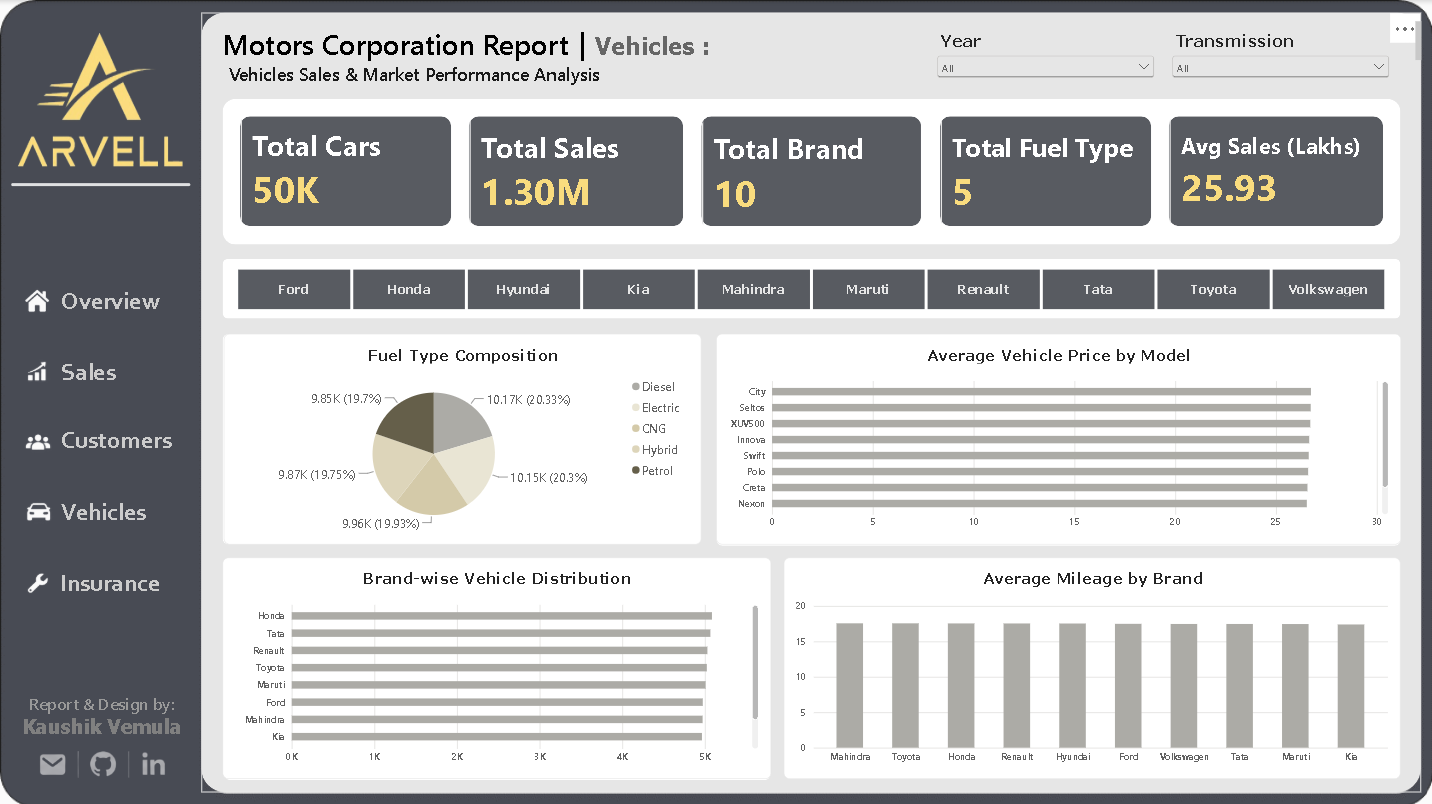

The page's visual inventory and layout, read from the dashboard file:
{"tool":"powerbi","page":{"name":"Vehicles","canvas":[1920,1080],"ordinal":3},"visuals":[{"type":"shape","box":[269.9,17.5,1634,1044.6],"z":0},{"type":"shape","box":[297.6,132.8,1578.6,195.5],"z":1000},{"type":"shape","box":[321,156.1,283,147.4],"z":2000},{"type":"shape","box":[1565.5,156.1,287.4,147.4],"z":3000},{"type":"shape","box":[1259.1,156.1,283,147.4],"z":4000},{"type":"shape","box":[939.6,156.1,294.7,147.4],"z":5000},{"type":"shape","box":[627.4,156.1,287.4,147.4],"z":6000},{"type":"textbox","box":[298,28,1606,54],"z":12000},{"type":"textbox","box":[307.1,81.4,847.1,52.9],"z":13000},{"type":"image","box":[15,26.7,240,215],"z":14000},{"type":"shape","box":[15.7,191.4,240,112.9],"z":15000},{"type":"textbox","box":[16,928,240,66],"z":16000},{"type":"image","box":[16,994,240,62],"z":17000},{"type":"actionButton","box":[38.4,1004.7,66.3,40.1],"z":18000},{"type":"actionButton","box":[170.9,1004.7,66.3,40.1],"z":19000},{"type":"actionButton","box":[104.7,1004.7,66.3,40.1],"z":20000},{"type":"cardVisual","fields":{"Data":["Count(Master_Car_Data.Car_ID)"]},"box":[320.8,155.4,286.9,145.4],"z":21000},{"type":"cardVisual","fields":{"Data":["Sum(Master_Car_Data.Sale_Price_Lakh)"]},"box":[627.7,156.9,276.9,146.2],"z":22000},{"type":"cardVisual","fields":{"Data":["Count(Master_Car_Data.Brand)"]},"box":[939.2,158.5,294.6,146.2],"z":23000},{"type":"cardVisual","fields":{"Data":["Avg(Master_Car_Data.Sale_Price_Lakh)"]},"box":[1565.4,155.4,292.3,147.7],"z":24000},{"type":"cardVisual","fields":{"Data":["Count(Master_Car_Data.Fuel_Type)"]},"box":[1259.2,156.9,283.8,146.2],"z":25000},{"type":"textbox","box":[81.4,384.3,154.3,44.3],"z":26000},{"type":"textbox","box":[81.4,479.3,155,50],"z":27000},{"type":"textbox","box":[81.4,666.4,157.1,52.1],"z":28000},{"type":"textbox","box":[80.2,762.2,141.3,45.3],"z":29000},{"type":"textbox","box":[81.4,570,175,41.4],"z":30000},{"type":"image","box":[28.5,384.6,43.1,36.9],"z":31000},{"type":"image","box":[30.9,479.1,38.2,37.3],"z":32000},{"type":"image","box":[31,572,38,38],"z":33000},{"type":"image","box":[31.2,666.2,40,37.5],"z":34000},{"type":"image","box":[31.2,762.5,37.5,37.5],"z":35000},{"type":"actionButton","box":[30,473.3,141.7,48.3],"z":36000},{"type":"actionButton","box":[28,568,208,48],"z":37000},{"type":"actionButton","box":[28.6,661.4,175.7,48.6],"z":38000},{"type":"actionButton","box":[31.4,758.6,207.1,48.6],"z":39000},{"type":"actionButton","box":[25.7,378.6,195.7,48.6],"z":40000},{"type":"shape","box":[298.3,347.1,1578.5,80.2],"z":41000},{"type":"advancedSlicerVisual","fields":{"Values":["Master_Car_Data.Brand"]},"box":[298.3,360,1578.3,55],"z":41001},{"type":"slicer","fields":{"Values":["Master_Car_Data.Year"]},"box":[1252,42,300,66],"z":41002},{"type":"slicer","fields":{"Values":["Master_Car_Data.Transmission"]},"box":[1566,42,300,66],"z":41003},{"type":"shape","box":[298.3,446.5,641.9,282.6],"z":41004},{"type":"shape","box":[959.3,446.5,917.4,284.3],"z":41005},{"type":"shape","box":[300,746.7,733.3,298.3],"z":41006},{"type":"shape","box":[1050,746.7,826.7,296.7],"z":41007},{"type":"pieChart","title":"Fuel Type Composition","fields":{"Category":["Master_Car_Data.Fuel_Type"],"Y":["Count(Master_Car_Data.Car_ID)"]},"box":[300,446.5,640.1,282.6],"z":41008},{"type":"barChart","title":"Average Vehicle Price by Model","fields":{"Category":["Master_Car_Data.Model"],"Y":["Avg(Master_Car_Data.Price_Lakh)"]},"box":[959.3,446.5,917.4,282.6],"z":41009},{"type":"barChart","title":"Brand-wise Vehicle Distribution","fields":{"Category":["Master_Car_Data.Brand"],"Y":["Count(Master_Car_Data.Car_ID)"]},"box":[298.3,746.7,735,296.7],"z":41010},{"type":"columnChart","title":"Average Mileage by Brand","fields":{"Category":["Master_Car_Data.Brand"],"Y":["Avg(Master_Car_Data.Mileage_kmpl)"]},"box":[1050,746.7,826.7,296.7],"z":41011}]}

Visuals, with their boxes in screenshot pixels (x1, y1, x2, y2), scaled from the page's 1920x1080 canvas onto the 1432x804 screenshot:
shape: BBox(201, 13, 1420, 791)
shape: BBox(222, 99, 1399, 244)
shape: BBox(239, 116, 450, 226)
shape: BBox(1168, 116, 1382, 226)
shape: BBox(939, 116, 1150, 226)
shape: BBox(701, 116, 921, 226)
shape: BBox(468, 116, 682, 226)
textbox: BBox(222, 21, 1420, 61)
textbox: BBox(229, 61, 861, 100)
image: BBox(11, 20, 190, 180)
shape: BBox(12, 142, 191, 227)
textbox: BBox(12, 691, 191, 740)
image: BBox(12, 740, 191, 786)
actionButton: BBox(29, 748, 78, 778)
actionButton: BBox(127, 748, 177, 778)
actionButton: BBox(78, 748, 128, 778)
cardVisual - Count(Master_Car_Data.Car_ID): BBox(239, 116, 453, 224)
cardVisual - Sum(Master_Car_Data.Sale_Price_Lakh): BBox(468, 117, 675, 226)
cardVisual - Count(Master_Car_Data.Brand): BBox(700, 118, 920, 227)
cardVisual - Avg(Master_Car_Data.Sale_Price_Lakh): BBox(1168, 116, 1386, 226)
cardVisual - Count(Master_Car_Data.Fuel_Type): BBox(939, 117, 1151, 226)
textbox: BBox(61, 286, 176, 319)
textbox: BBox(61, 357, 176, 394)
textbox: BBox(61, 496, 178, 535)
textbox: BBox(60, 567, 165, 601)
textbox: BBox(61, 424, 191, 455)
image: BBox(21, 286, 53, 314)
image: BBox(23, 357, 52, 384)
image: BBox(23, 426, 51, 454)
image: BBox(23, 496, 53, 524)
image: BBox(23, 568, 51, 596)
actionButton: BBox(22, 352, 128, 388)
actionButton: BBox(21, 423, 176, 459)
actionButton: BBox(21, 492, 152, 529)
actionButton: BBox(23, 565, 178, 601)
actionButton: BBox(19, 282, 165, 318)
shape: BBox(222, 258, 1400, 318)
advancedSlicerVisual - Master_Car_Data.Brand: BBox(222, 268, 1400, 309)
slicer - Master_Car_Data.Year: BBox(934, 31, 1158, 80)
slicer - Master_Car_Data.Transmission: BBox(1168, 31, 1392, 80)
shape: BBox(222, 332, 701, 543)
shape: BBox(715, 332, 1400, 544)
shape: BBox(224, 556, 771, 778)
shape: BBox(783, 556, 1400, 777)
"Fuel Type Composition" pieChart: BBox(224, 332, 701, 543)
"Average Vehicle Price by Model" barChart: BBox(715, 332, 1400, 543)
"Brand-wise Vehicle Distribution" barChart: BBox(222, 556, 771, 777)
"Average Mileage by Brand" columnChart: BBox(783, 556, 1400, 777)
